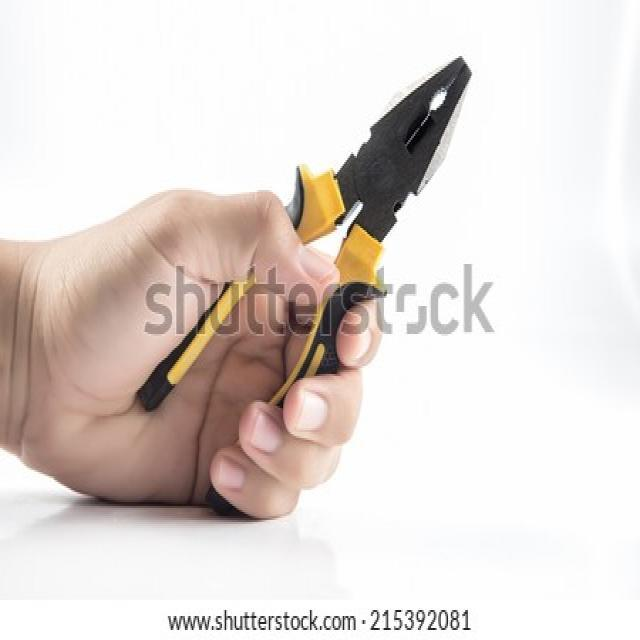pliers: (134, 52, 478, 421)
